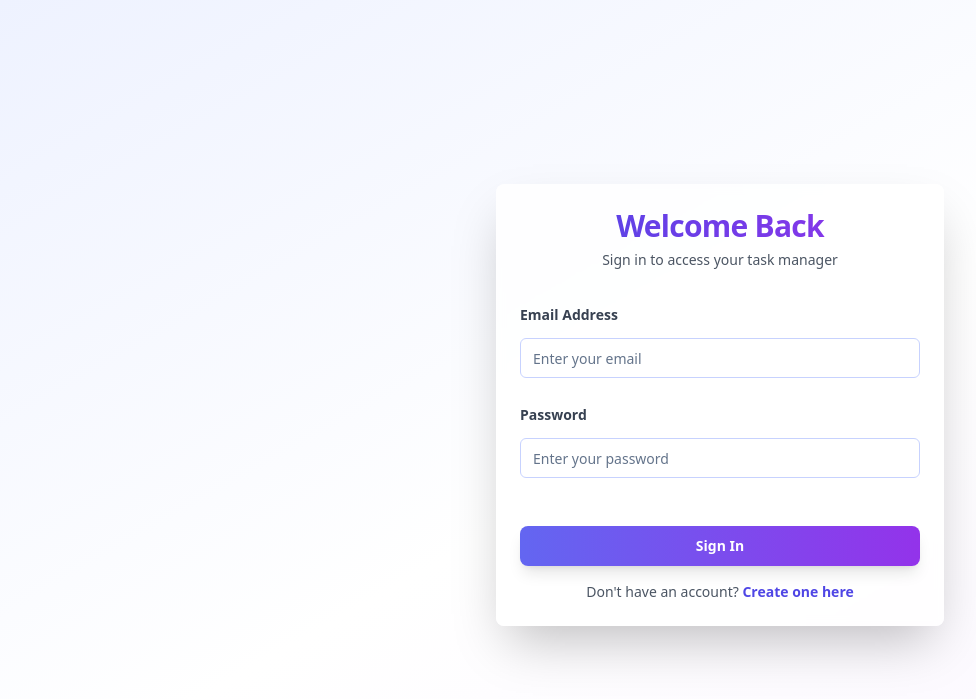
LoginPage › validates password field
In the field with placeholder "Enter your email": (720, 358) [520,338,920,378], type "test@example.com"
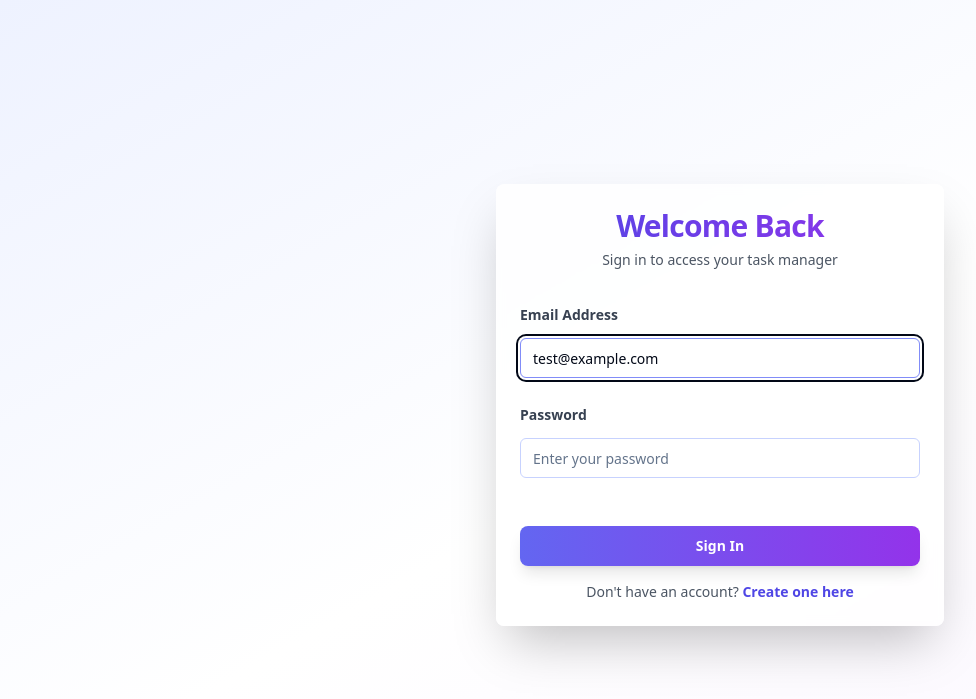
Click the button "Sign In": (720, 546) [520,526,920,566]
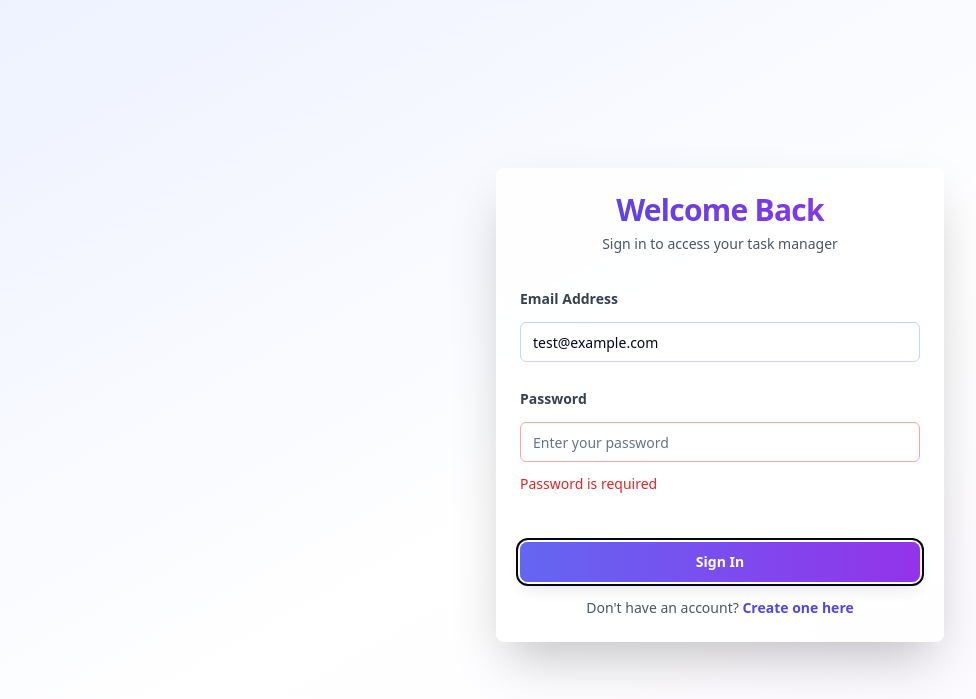
expect the text "Password is required" is shown: met, box [520,474,657,493]
In the password field with placeholder "Enter your password": (720, 442) [520,422,920,462], type "123"
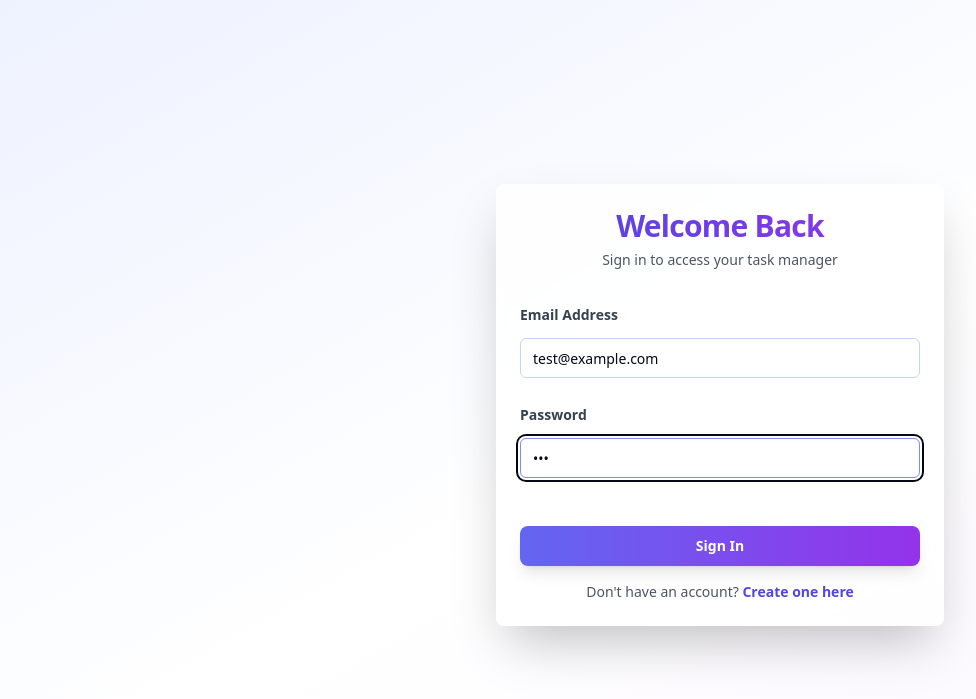
Click the button "Sign In": (720, 546) [520,526,920,566]
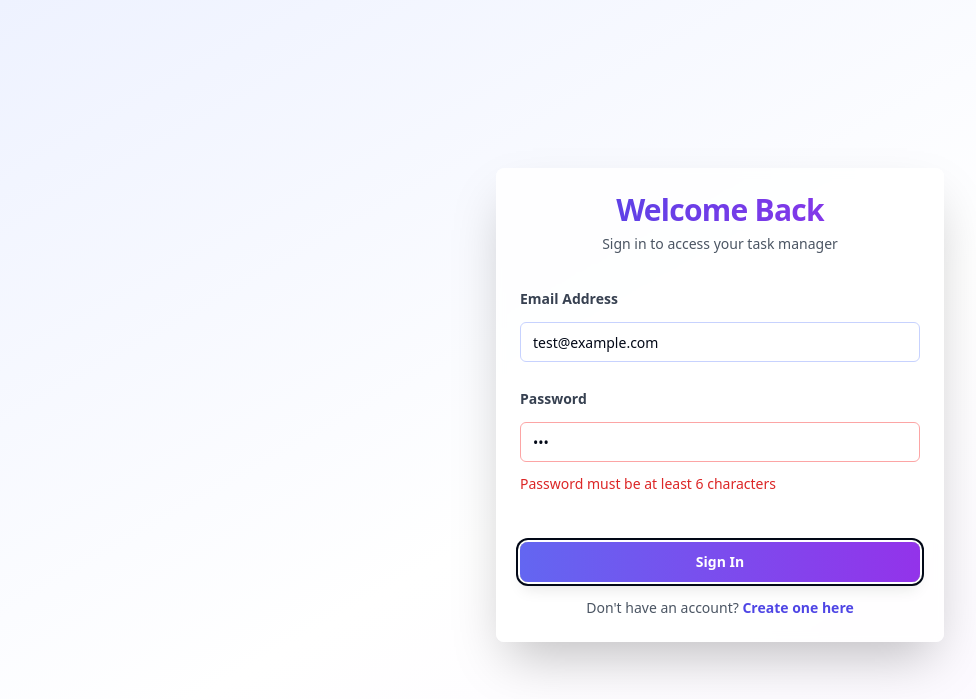
expect the text "Password must be at least 6 characters" is shown: met, box [520,474,776,493]
